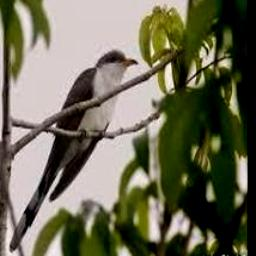Cuckoo: (11, 49, 139, 254)
